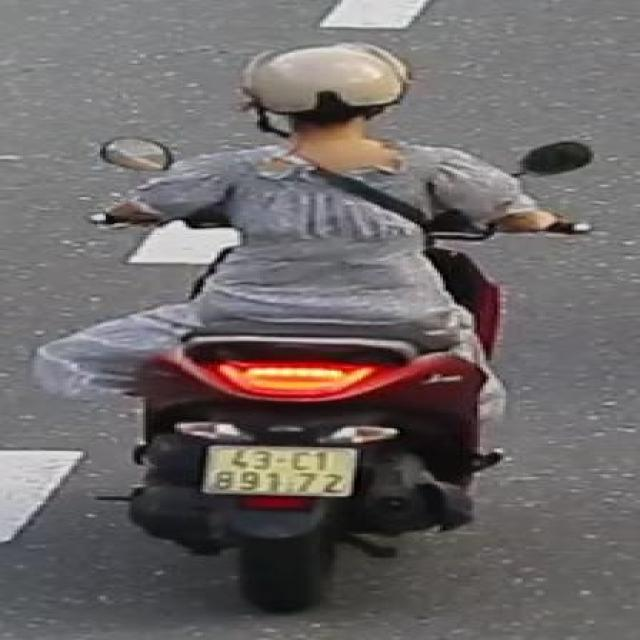LP: (200, 443, 363, 503)
helmet: (238, 34, 418, 156)
